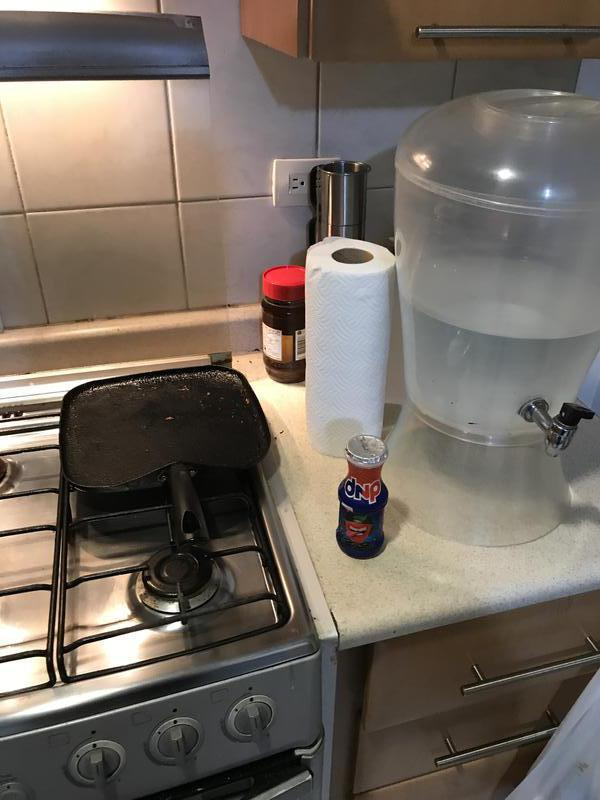danup: (336, 433, 390, 560)
